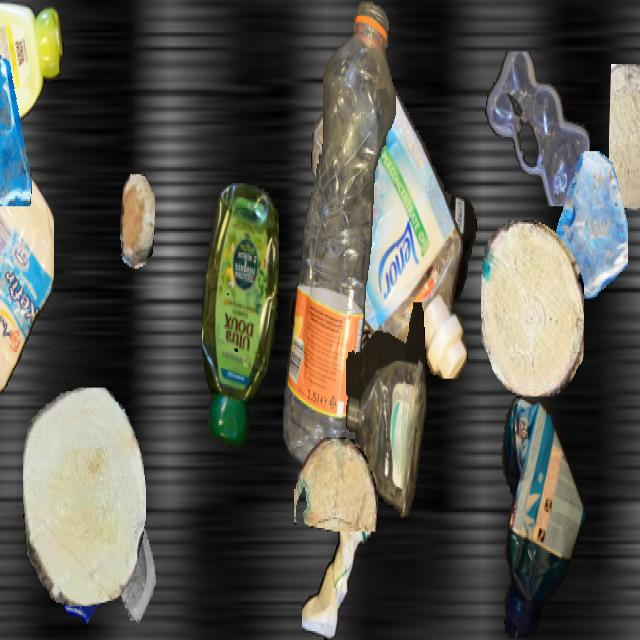glass: (545, 151, 627, 297), (93, 502, 169, 636), (53, 512, 115, 622), (0, 48, 36, 204)
metal: (0, 526, 18, 633)
plastic: (283, 2, 395, 471), (310, 71, 470, 377), (289, 197, 477, 439), (496, 393, 584, 638), (202, 183, 278, 446), (346, 302, 428, 519), (0, 153, 54, 462), (485, 52, 591, 205), (302, 489, 370, 638), (0, 2, 64, 140)
wood: (23, 388, 145, 604), (481, 220, 583, 394), (294, 437, 378, 530), (609, 64, 640, 210), (120, 174, 154, 267)
